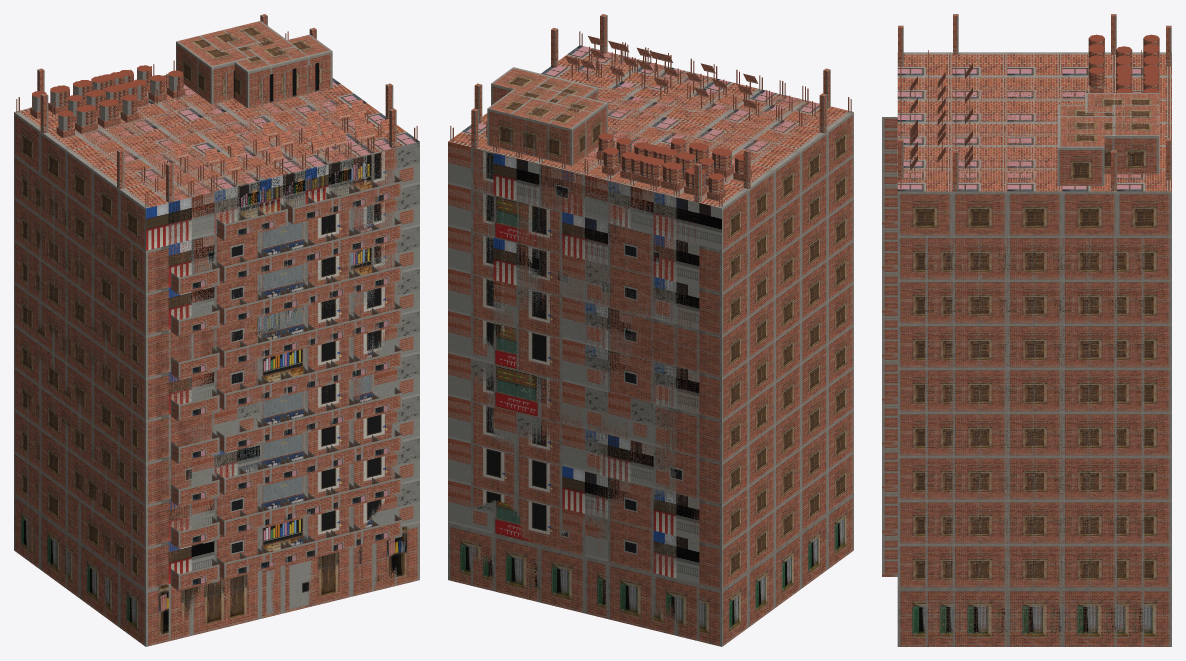
3 renders of one model, left to right at view 1: azimuth 30°, elevation 25°; view 2: azimuth 150°, elevation 25°; view 3: azimuth 270°, elevation 25°, orthographic. The views are drawn at different scales.
Parts seen in each view (by area): view 1: Brick_6x5_f9_v1, Brick_4x5_f9_v0, Brick_3x5_f8_v1, Brick_5x5_f9_v1, Brick_6x3_f8_v1, Brick_6x4_f8_v1, Brick_5x5_f9_v0, Brick_6x3_f9_v0, Brick_5x5_f8_v1, Brick_3x4_f9_v1, Brick_4x4_f9_v1, Brick_5x3_f9_v0 (+3 smaller); view 2: Brick_4x5_f9_v0, Brick_6x5_f9_v1, Brick_3x5_f8_v1, Brick_5x5_f9_v1, Brick_6x3_f8_v1, Brick_6x3_f9_v0, Brick_3x4_f9_v1, Brick_3x5_f9_v0, Brick_4x4_f9_v1, Brick_5x4_f9_v1, Brick_4x3_f9_v0, Brick_5x5_f9_v0 (+1 smaller); view 3: Brick_6x3_f8_v1, Brick_6x4_f8_v1, Brick_6x5_f9_v1, Brick_4x5_f9_v0, Brick_6x3_f9_v0, Brick_5x5_f9_v1, Brick_4x4_f9_v1, Brick_5x5_f9_v0, Brick_3x4_f9_v1, Brick_5x4_f9_v1, Brick_4x3_f9_v0, Brick_5x3_f9_v0 (+1 smaller).
Boxes of the visible parts, <box> form: Brick_6x5_f9_v1: <box>14,31,419,646</box>; Brick_4x5_f9_v0: <box>77,26,379,635</box>; Brick_3x5_f8_v1: <box>214,210,351,626</box>; Brick_5x5_f9_v1: <box>37,14,396,640</box>; Brick_6x3_f8_v1: <box>40,174,119,627</box>; Brick_6x4_f8_v1: <box>27,164,132,618</box>; Brick_5x5_f9_v0: <box>73,72,402,579</box>; Brick_6x3_f9_v0: <box>40,27,393,231</box>; Brick_5x5_f8_v1: <box>171,229,356,590</box>; Brick_3x4_f9_v1: <box>114,41,337,180</box>; Brick_4x4_f9_v1: <box>93,43,360,187</box>; Brick_5x3_f9_v0: <box>81,41,368,182</box>; Brick_4x5_f9_v0: <box>493,42,807,635</box>; Brick_6x5_f9_v1: <box>448,31,853,646</box>; Brick_3x5_f8_v1: <box>516,201,653,628</box>; Brick_5x5_f9_v1: <box>471,14,830,641</box>; Brick_6x3_f8_v1: <box>748,174,827,627</box>; Brick_6x3_f9_v0: <box>474,27,827,231</box>; Brick_3x4_f9_v1: <box>547,57,771,169</box>; Brick_3x5_f9_v0: <box>519,48,782,189</box>; Brick_4x4_f9_v1: <box>541,52,794,185</box>; Brick_5x4_f9_v1: <box>486,46,815,190</box>; Brick_4x3_f9_v0: <box>544,62,778,155</box>; Brick_5x5_f9_v0: <box>608,40,758,191</box>; Brick_6x3_f8_v1: <box>952,235,1116,646</box>; Brick_6x4_f8_v1: <box>925,235,1144,646</box>; Brick_6x5_f9_v1: <box>897,34,1171,646</box>; Brick_4x5_f9_v0: <box>882,58,1171,559</box>; Brick_6x3_f9_v0: <box>952,14,1116,235</box>; Brick_5x5_f9_v1: <box>897,25,1171,179</box>; Brick_4x4_f9_v1: <box>925,59,1143,167</box>; Brick_5x5_f9_v0: <box>882,55,1159,576</box>; Brick_3x4_f9_v1: <box>925,71,1143,155</box>; Brick_5x4_f9_v1: <box>925,46,1143,178</box>; Brick_4x3_f9_v0: <box>955,59,1114,149</box>; Brick_5x3_f9_v0: <box>955,46,1114,161</box>.
Size of the model in its own units: 21 by 34.8 by 18.5.
1 material, 1 textured.
